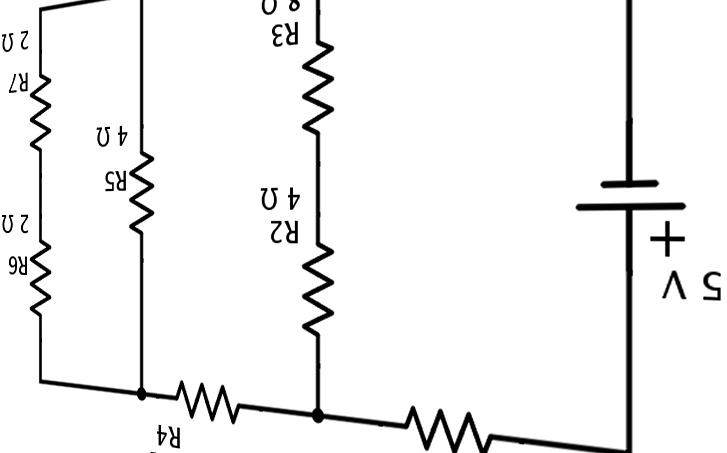resistor: (280, 223, 368, 341), (128, 125, 179, 250), (380, 402, 508, 448), (298, 26, 349, 138), (25, 62, 68, 157), (168, 380, 266, 420), (27, 218, 62, 325)
